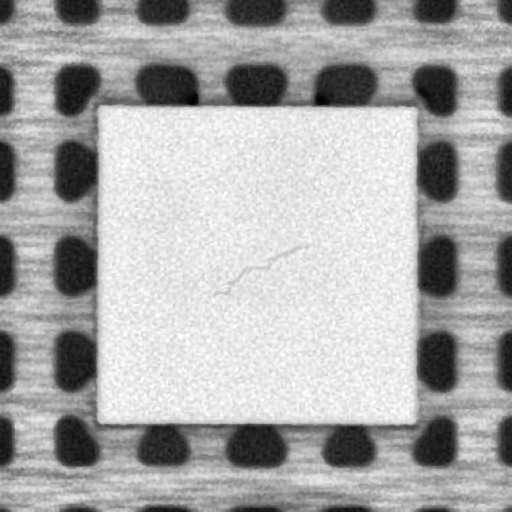DIE_CRACK: (210, 243, 307, 296)
